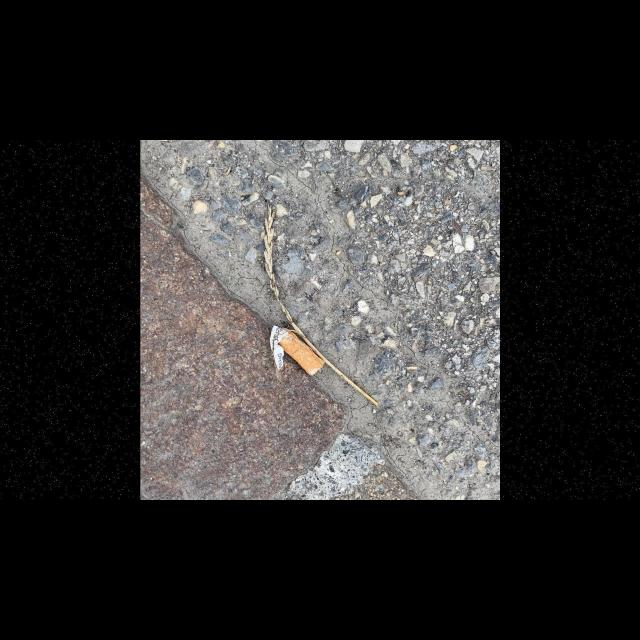cigarette: (269, 326, 325, 376)
